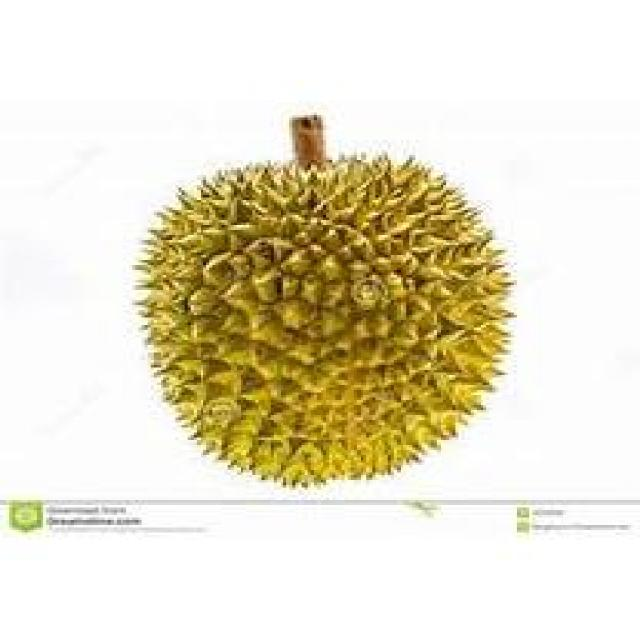fruit: (98, 128, 520, 530)
